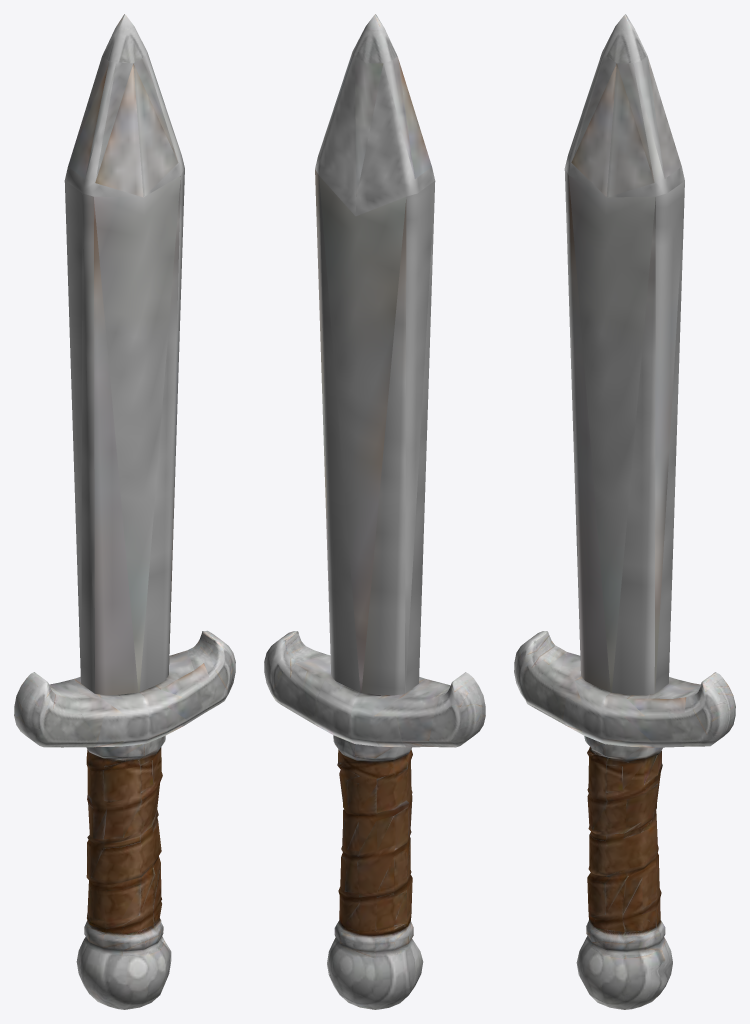
Rendered from prop_sword.glb.
3 views of the same model, side by side, from view 1: azimuth 30°, elevation 25°; view 2: azimuth 150°, elevation 25°; view 3: azimuth 330°, elevation 25° (orthographic).
Bounding box in the file's own units: 0.2119 × 0.9512 × 0.0826.
1 material, 1 textured.
